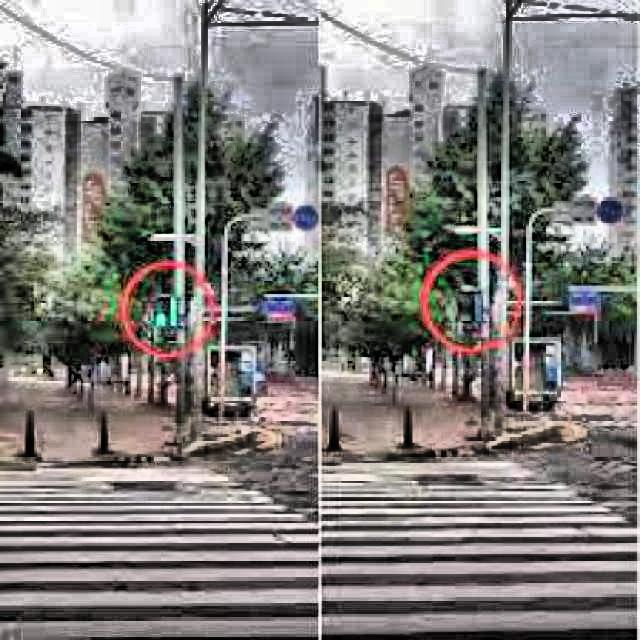semaforo pedestre: (135, 282, 203, 351)
